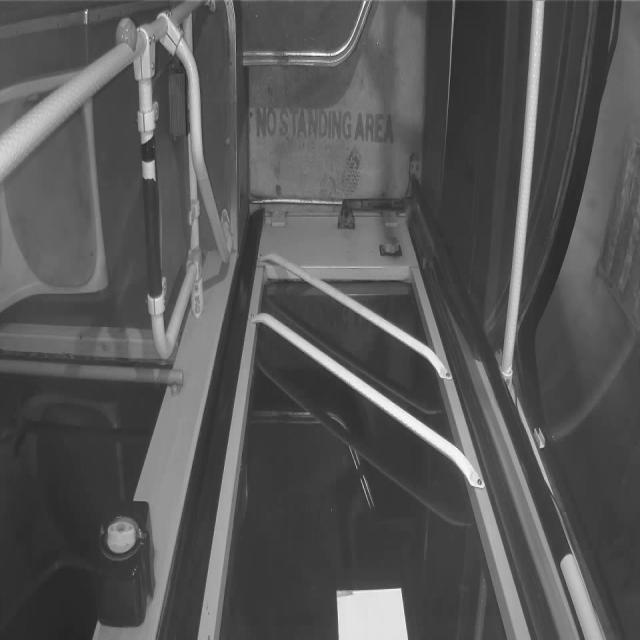close: (196, 209, 532, 639)
